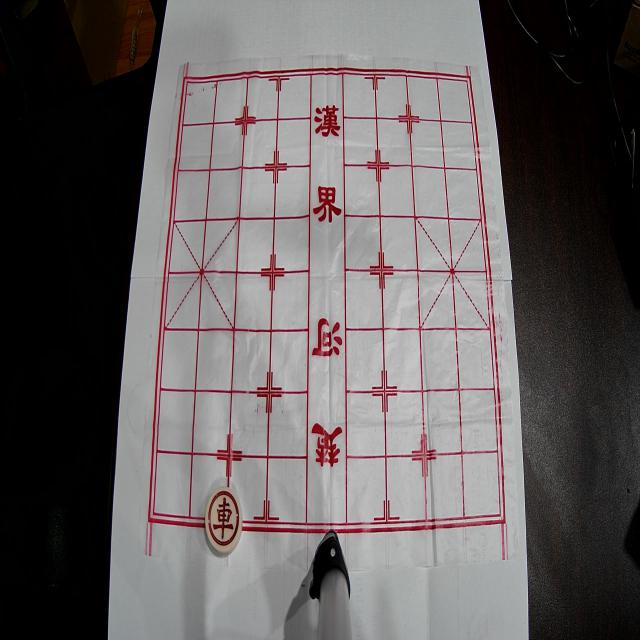red-chariot: (205, 486, 242, 554)
